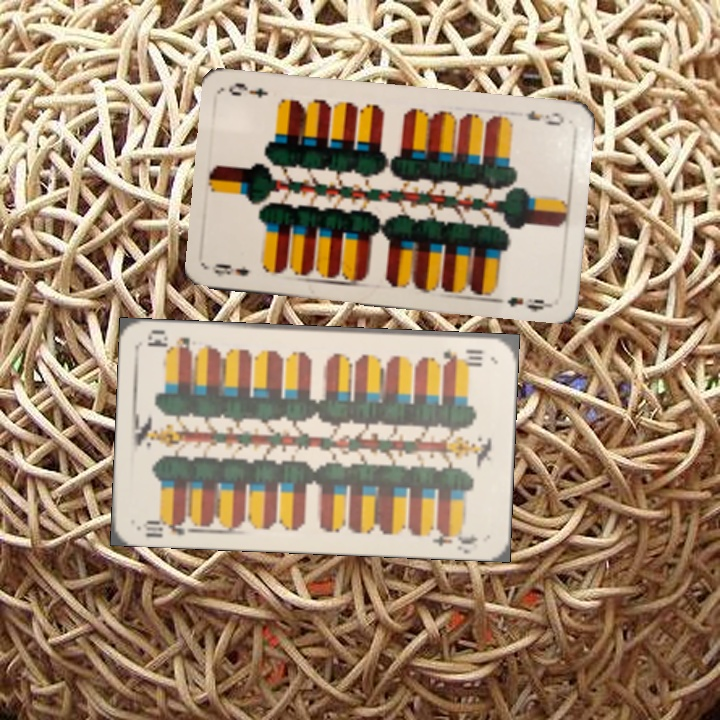E10: (135, 513, 195, 539), (439, 345, 485, 366)
E9: (522, 106, 567, 128), (211, 260, 252, 279)
